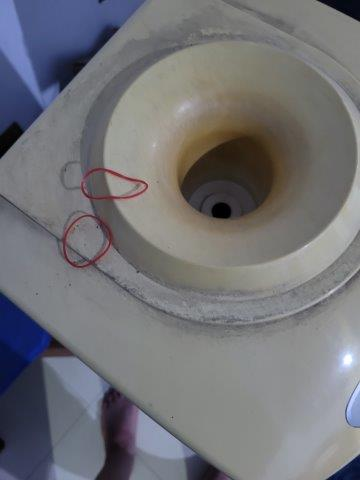karet: (61, 215, 113, 266), (80, 168, 149, 200)
